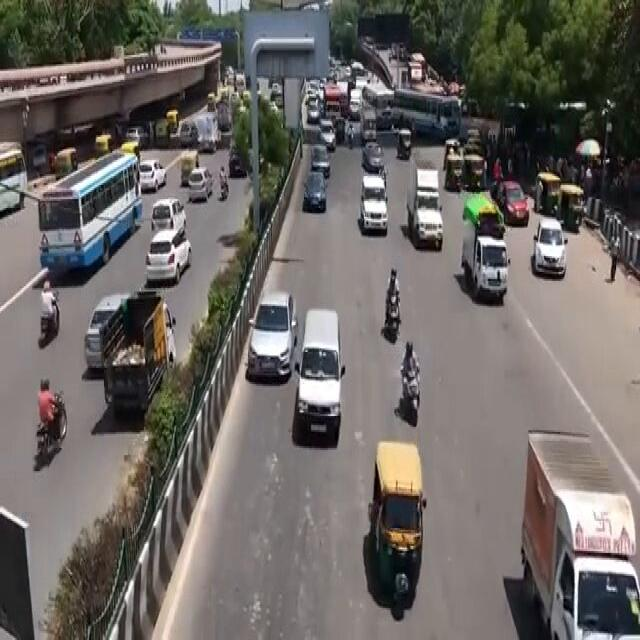three_wheeler: (368, 436, 427, 614)
